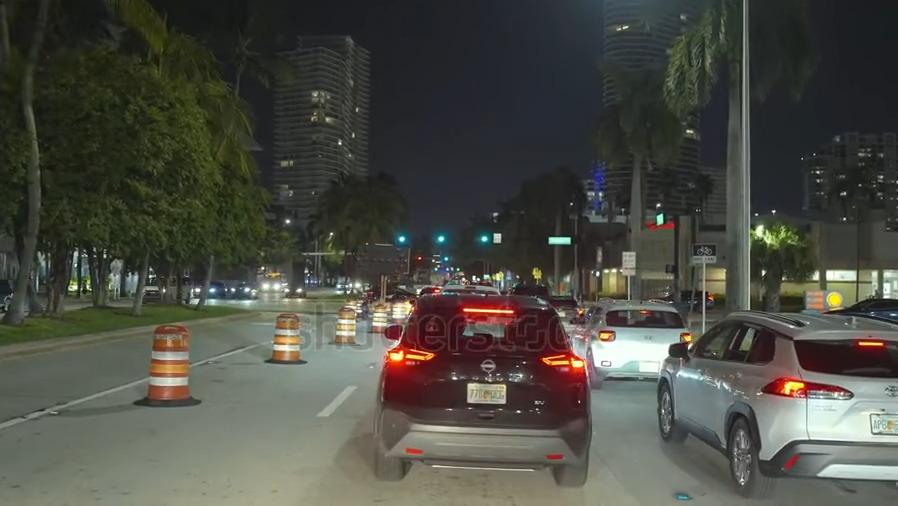car: (662, 311, 898, 494), (378, 291, 589, 487), (570, 297, 687, 379), (812, 295, 898, 322), (648, 287, 716, 311), (0, 273, 38, 314), (137, 275, 191, 302), (194, 279, 224, 299), (229, 282, 256, 299), (283, 282, 306, 299)
cone: (146, 322, 191, 400), (270, 310, 299, 364), (336, 303, 355, 345), (389, 299, 402, 324), (373, 301, 382, 331)
traffic light: (389, 228, 412, 250), (430, 229, 449, 250), (477, 229, 492, 250)
wheel: (721, 412, 760, 491), (654, 379, 680, 438)
